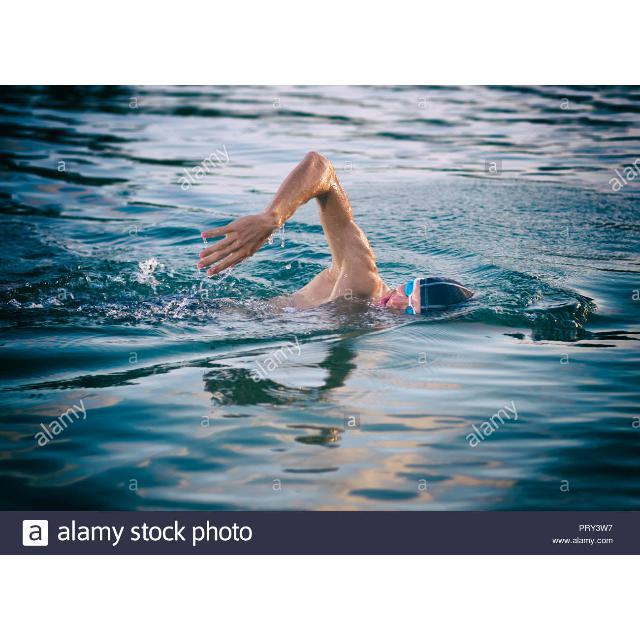human: (194, 145, 478, 318)
